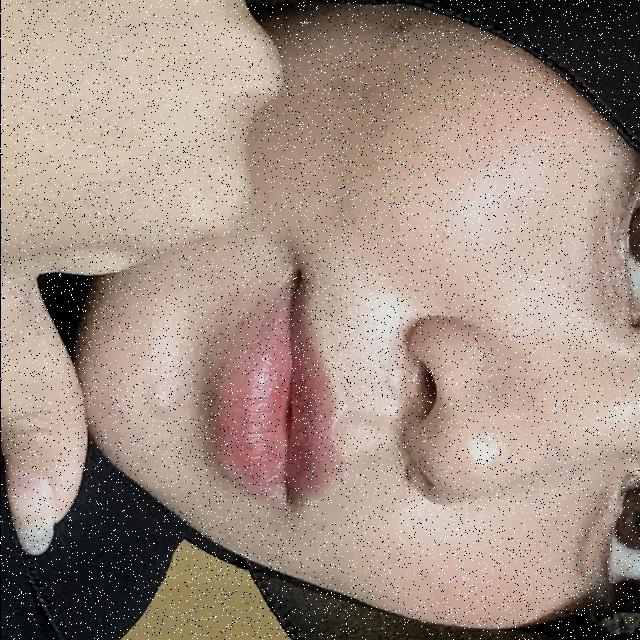telpon: (0, 0, 564, 630)
